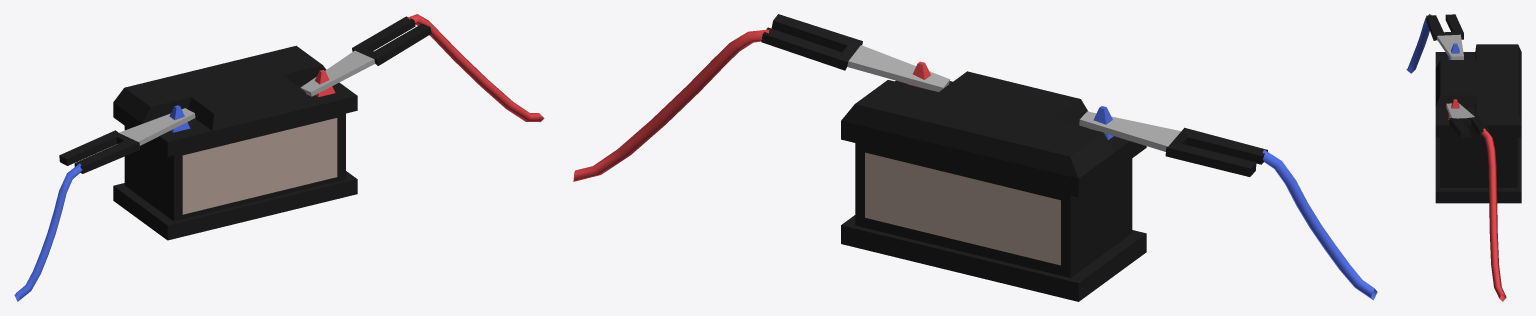
File: Baterry.fbx
3 views of the same model, side by side, from view 1: azimuth 30°, elevation 25°; view 2: azimuth 150°, elevation 25°; view 3: azimuth 270°, elevation 25° (orthographic). The views are drawn at different scales.
Parts seen in each view (by area): view 1: Baterry; view 2: Baterry; view 3: Baterry.
Boxes of the visible parts, x1,y1,x2,y2 form: Baterry: [14, 14, 544, 301]; Baterry: [573, 14, 1377, 301]; Baterry: [1406, 14, 1521, 301].
Bounding box in the file's own units: 12.41 × 3.02 × 2.68.
